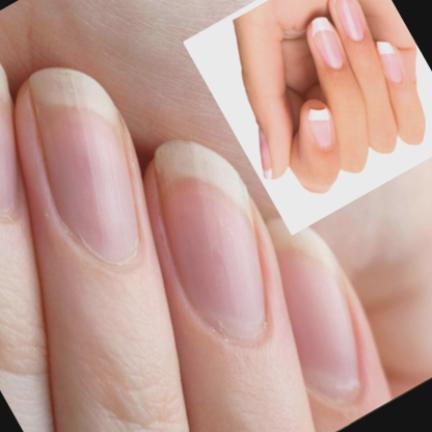Nail: (153, 140, 267, 345), (28, 68, 139, 265), (264, 217, 362, 404), (312, 18, 344, 69), (335, 0, 365, 42), (377, 42, 402, 83), (309, 106, 331, 149), (259, 130, 271, 180)
